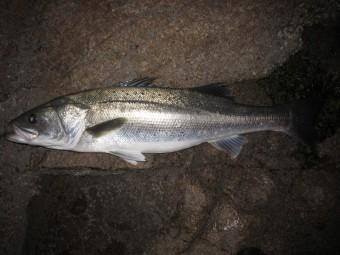fish: (7, 79, 318, 164)
